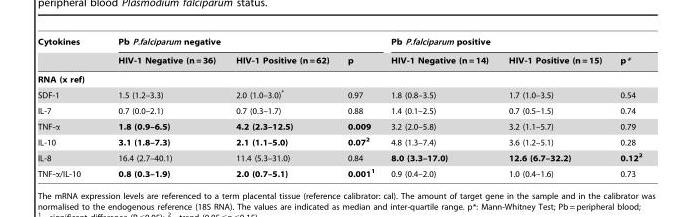table: (37, 37, 641, 178)
table column: (98, 37, 225, 178), (382, 37, 498, 178), (225, 37, 337, 178), (498, 37, 610, 178), (37, 37, 98, 178), (337, 37, 382, 178), (610, 37, 641, 178)
table column header: (37, 37, 641, 69)
table projected row header: (37, 69, 641, 86)
table row: (37, 50, 641, 69), (37, 69, 641, 86), (37, 86, 641, 102), (37, 102, 641, 118), (37, 133, 641, 149), (37, 118, 641, 133), (37, 149, 641, 164), (37, 164, 641, 178), (37, 37, 641, 50)
table spanning cell: (98, 37, 382, 50), (382, 37, 641, 50), (37, 37, 98, 69)
